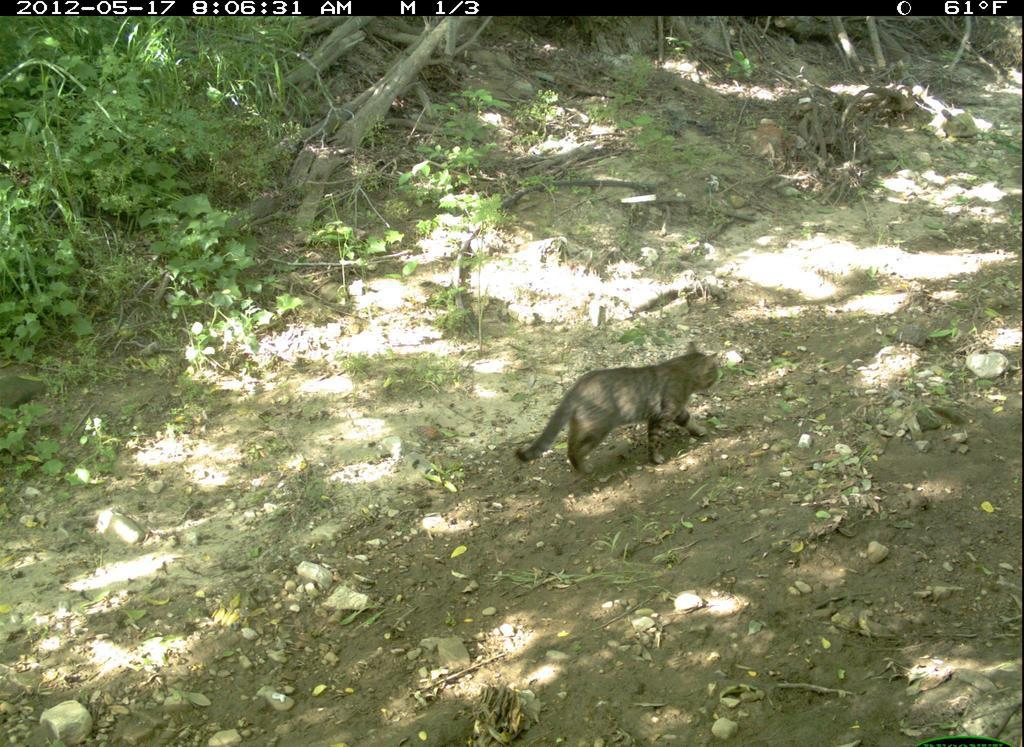cat: (514, 333, 730, 482)
